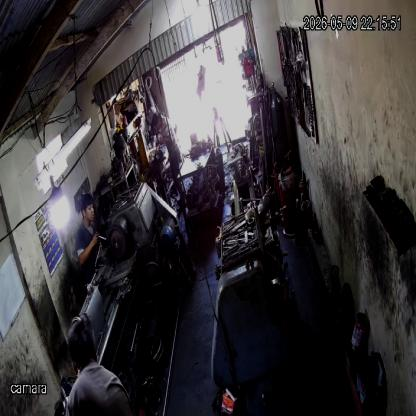sin_lentes: (84, 204, 96, 212)
